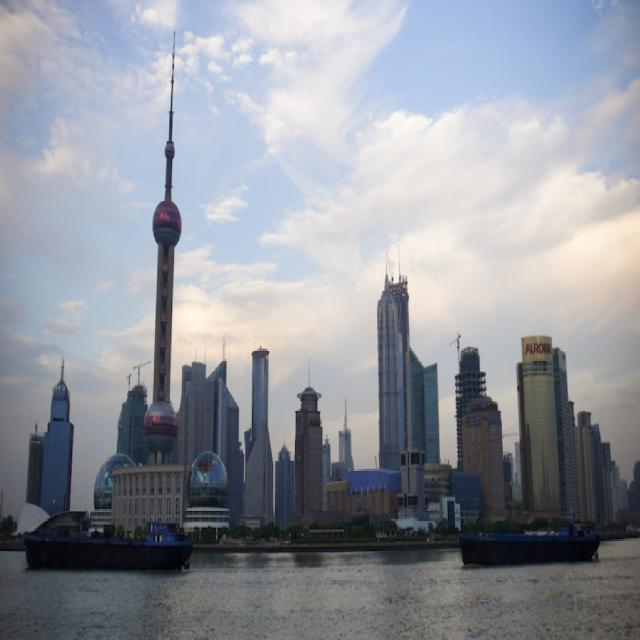Boat: (22, 518, 192, 572), (462, 526, 600, 562)
